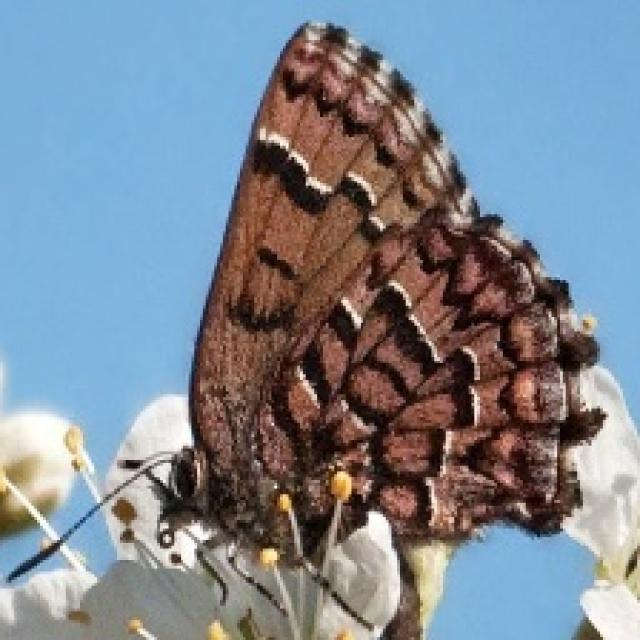butterfly: (3, 17, 606, 637)
